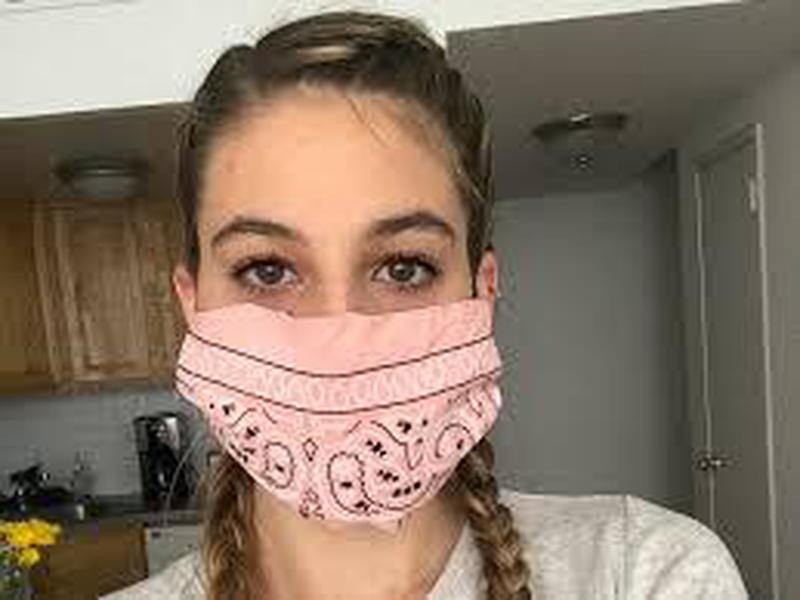with_mask: (170, 88, 506, 530)
